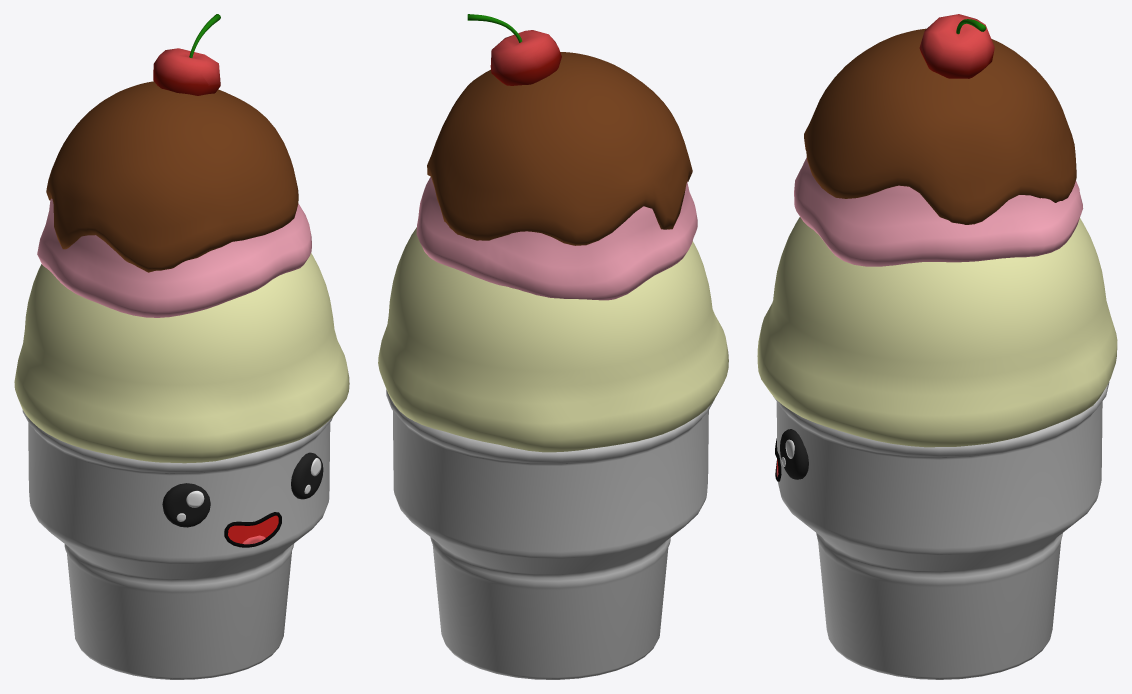
Rendered from Smiling Ice Cream SF.fbx.
3 views of the same model, side by side, from view 1: azimuth 30°, elevation 25°; view 2: azimuth 150°, elevation 25°; view 3: azimuth 270°, elevation 25° (orthographic). The views are drawn at different scales.
Visible parts, largest first — view 1: Sphere, Cylinder, Sphere.002; view 2: Sphere, Cylinder, Sphere.002; view 3: Sphere, Cylinder, Sphere.002.
Boxes of the visible parts, x1=… form: Sphere: x1=14, y1=81, x2=349, y2=463; Cylinder: x1=22, y1=410, x2=332, y2=679; Sphere.002: x1=153, y1=14, x2=220, y2=95; Sphere: x1=378, y1=52, x2=728, y2=452; Cylinder: x1=386, y1=389, x2=714, y2=679; Sphere.002: x1=467, y1=14, x2=561, y2=85; Sphere: x1=757, y1=28, x2=1117, y2=447; Cylinder: x1=773, y1=382, x2=1109, y2=679; Sphere.002: x1=919, y1=14, x2=994, y2=78.
Size of the model in its own units: 97.94 by 191 by 97.4.
